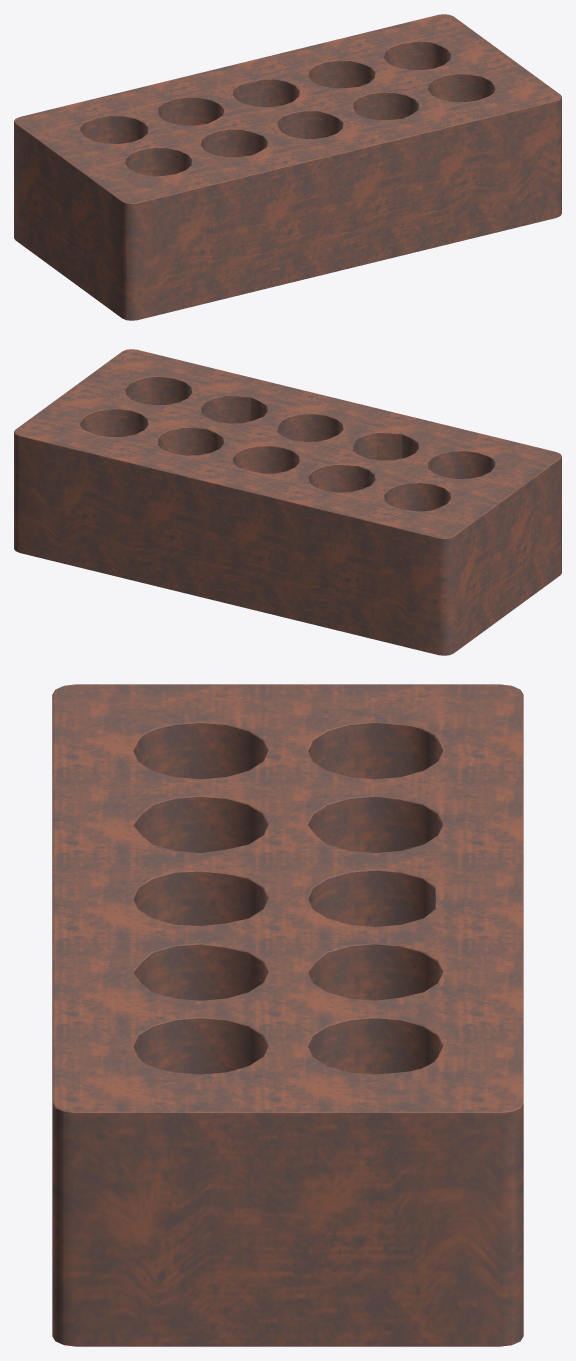
3 views of the same model, one above another, from view 1: azimuth 30°, elevation 25°; view 2: azimuth 150°, elevation 25°; view 3: azimuth 270°, elevation 25° (orthographic). The views are drawn at different scales.
Visible parts, largest first — view 1: Brick; view 2: Brick; view 3: Brick.
Boxes of the visible parts, bbox=[...] form: Brick: bbox=[14, 14, 561, 320]; Brick: bbox=[14, 349, 561, 655]; Brick: bbox=[52, 684, 523, 1346].
Bounding box in the file's own units: 0.215 × 0.055 × 0.1.
Materials: 1 (1 with a texture image).
